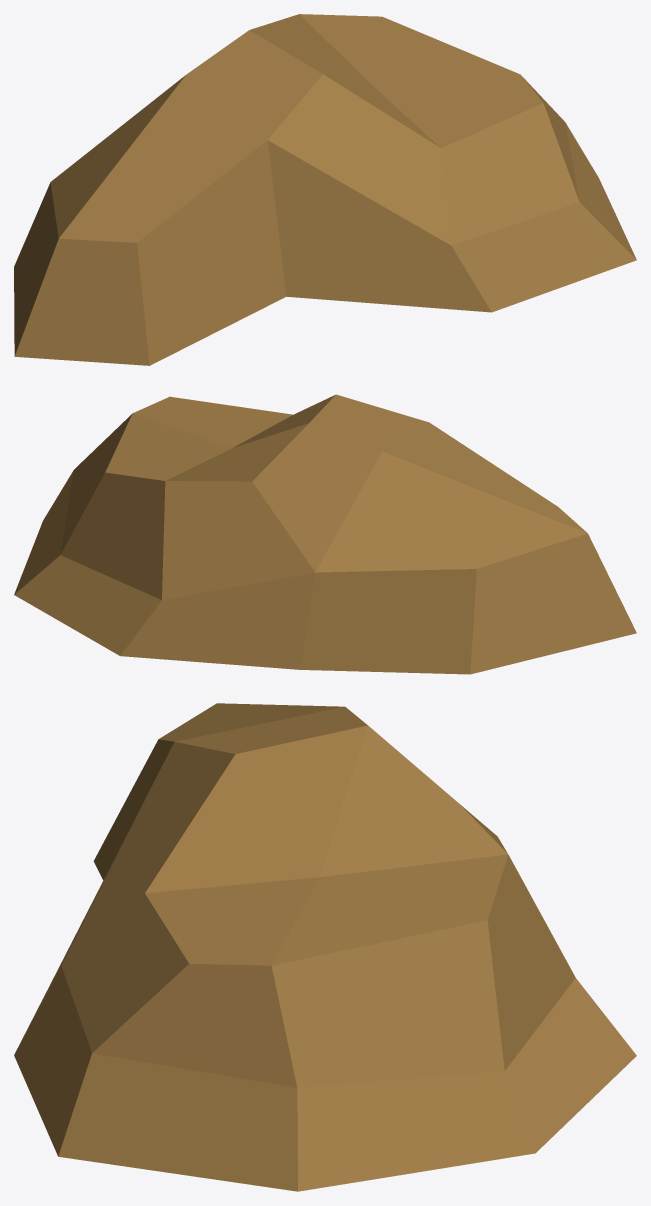
Rendered from MudRocks008.fbx.
The picture shows the model from 3 angles, top to bottom: view 1: azimuth 30°, elevation 25°; view 2: azimuth 150°, elevation 25°; view 3: azimuth 270°, elevation 25°; orthographic projection. The views are drawn at different scales.
Parts seen in each view (by area): view 1: Cube.023; view 2: Cube.023; view 3: Cube.023.
Boxes of the visible parts, x1,y1,x2,y2 form: Cube.023: (14,14,636,365); Cube.023: (14,394,636,674); Cube.023: (14,703,636,1191).
Size of the model in its own units: 382 by 123 by 259.
